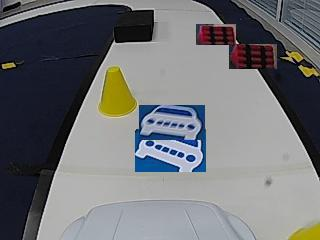block: (114, 9, 154, 42)
cone: (99, 67, 138, 117)
